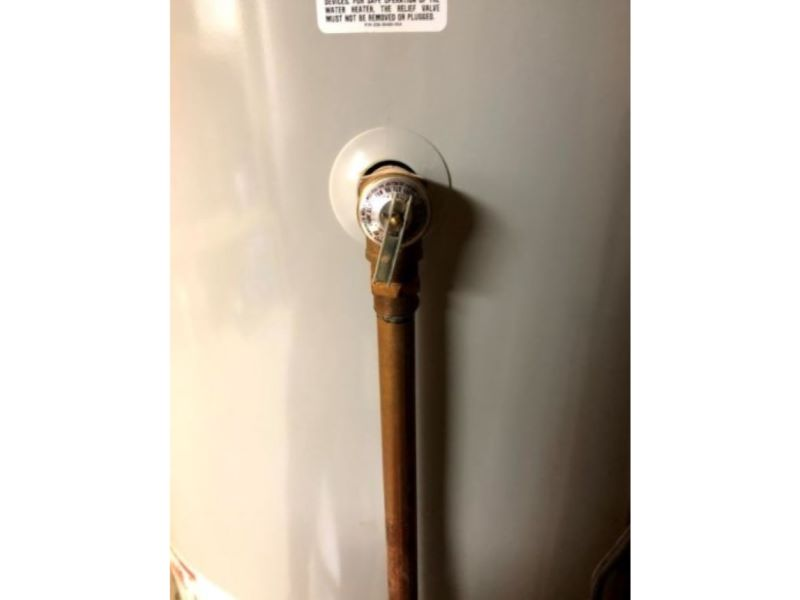Valve: (358, 161, 428, 326)
